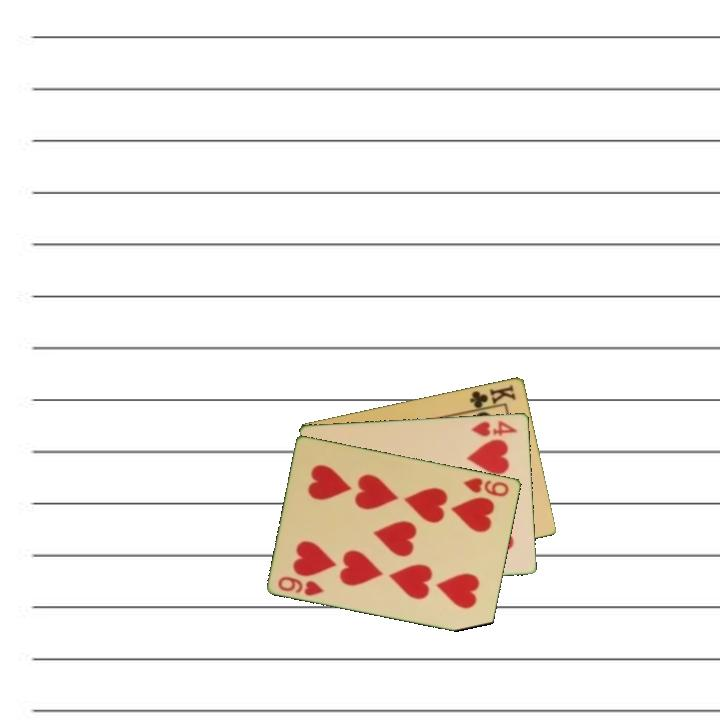4h: (468, 417, 520, 439)
9h: (275, 572, 327, 599), (460, 474, 512, 499)
Kc: (466, 381, 519, 413)
